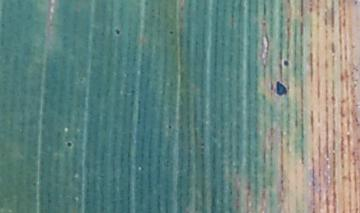tarspot: (274, 79, 288, 97), (281, 57, 290, 68), (113, 27, 121, 37), (65, 140, 73, 148), (168, 29, 175, 36), (31, 180, 37, 188), (167, 124, 173, 130), (353, 1, 359, 6), (286, 1, 290, 4)
